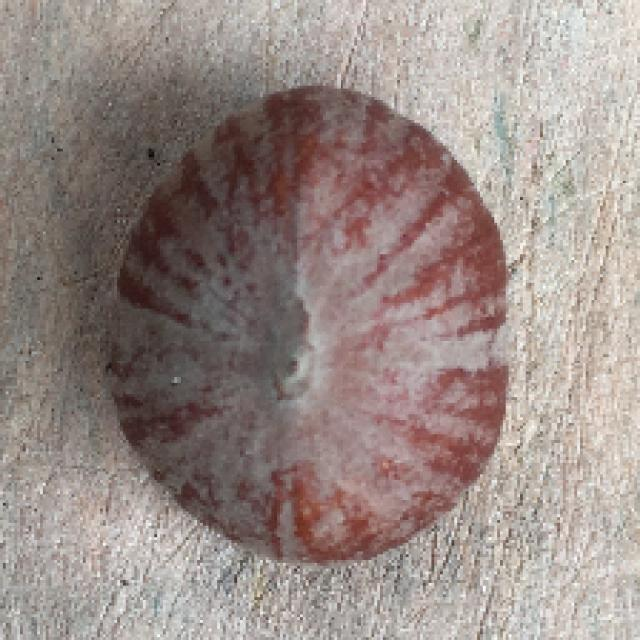qualityHazelnut: (95, 80, 518, 564)
